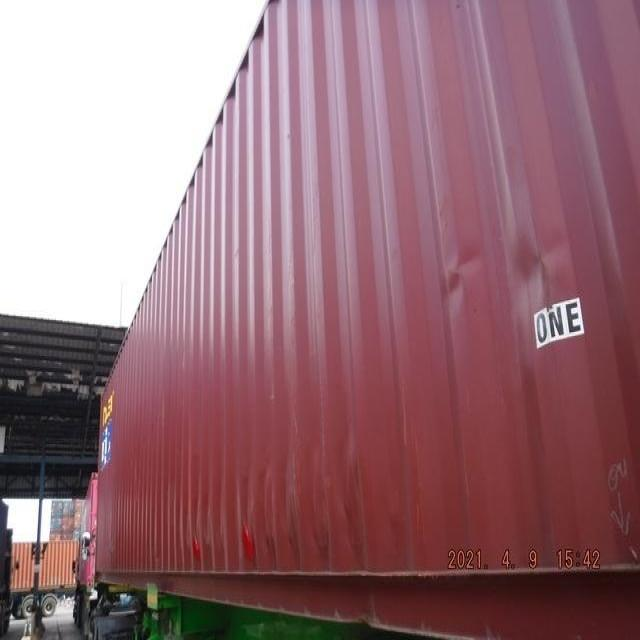dent: (435, 234, 583, 309)
